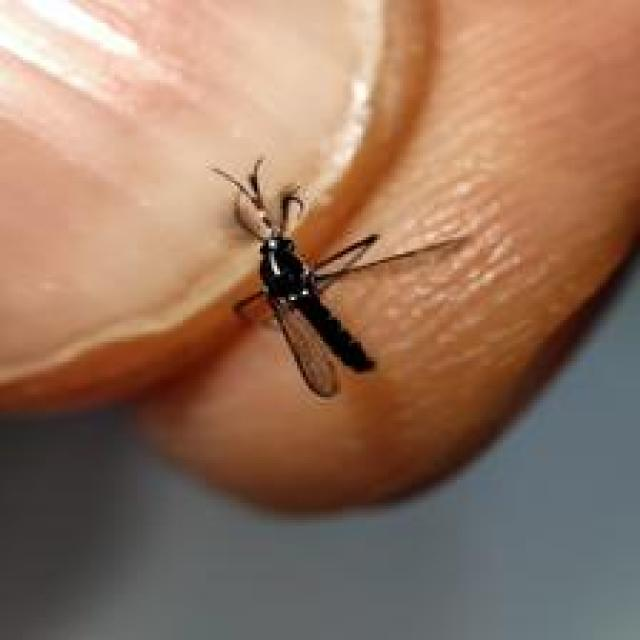Aedes albopictus: (207, 154, 470, 400)
